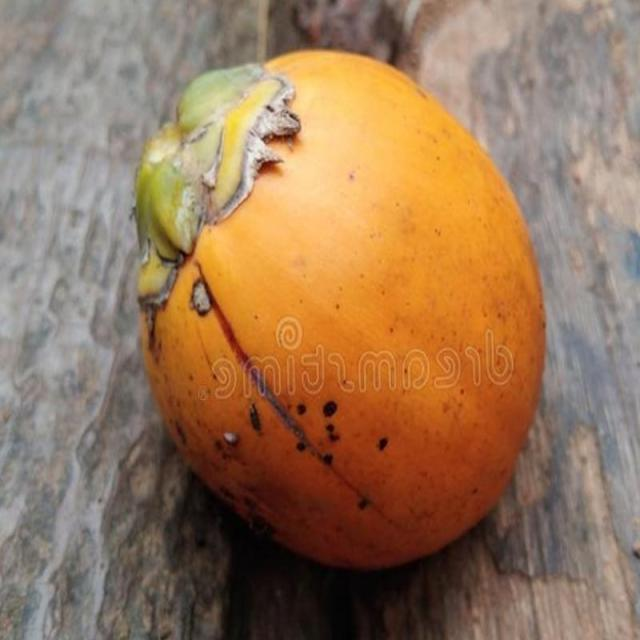good: (134, 49, 546, 572)
